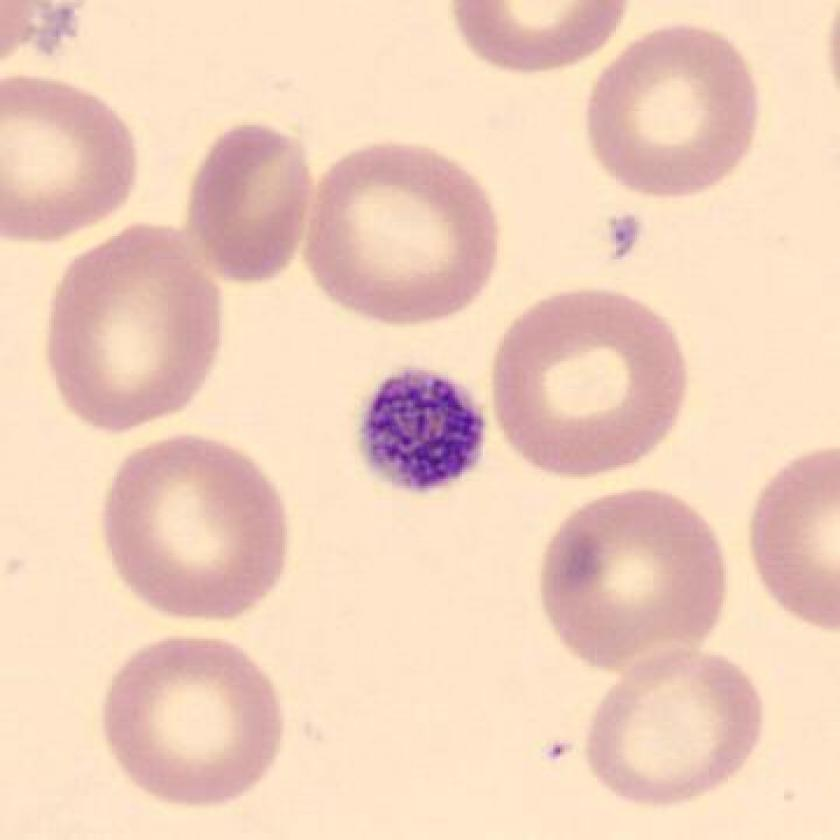platelets: (344, 365, 503, 506)
